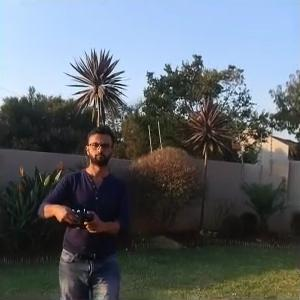follow: (35, 119, 139, 299)
